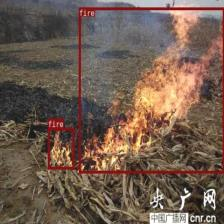fire: (78, 7, 224, 173), (47, 127, 74, 169)
